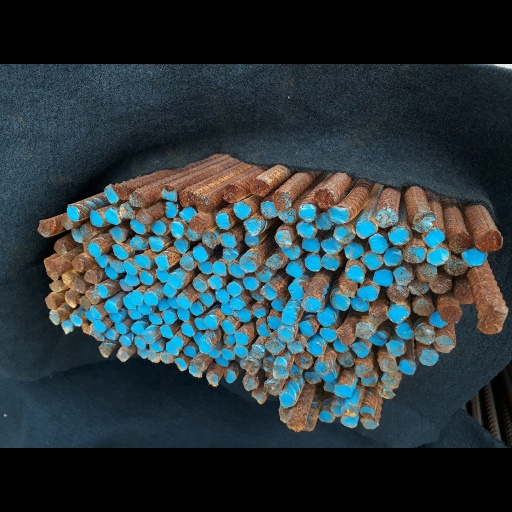dipstick: (480, 308, 506, 333), (478, 231, 502, 251), (449, 234, 472, 253), (389, 227, 412, 245), (413, 211, 433, 231), (454, 284, 474, 304), (355, 220, 377, 238), (445, 258, 468, 275), (424, 229, 444, 248), (427, 248, 448, 266), (388, 305, 409, 323), (376, 210, 398, 227), (403, 246, 425, 263), (440, 305, 460, 323), (329, 207, 350, 224), (462, 250, 485, 265), (315, 189, 334, 207), (346, 265, 364, 284), (435, 334, 454, 352), (335, 225, 355, 242), (388, 285, 408, 302), (321, 253, 339, 271), (370, 234, 387, 253), (395, 266, 412, 285), (415, 327, 434, 344), (412, 301, 434, 315), (38, 220, 56, 237), (299, 204, 316, 222), (331, 293, 349, 310), (369, 307, 387, 324), (250, 180, 269, 196), (418, 264, 437, 280), (373, 269, 392, 285), (339, 324, 354, 344), (379, 358, 399, 373), (233, 202, 250, 219), (274, 192, 291, 209), (385, 249, 402, 266), (340, 277, 357, 294), (275, 230, 291, 248), (227, 260, 243, 278), (345, 243, 363, 259), (305, 254, 321, 272), (431, 277, 449, 293), (386, 340, 404, 356), (322, 239, 341, 254), (363, 254, 382, 269), (296, 223, 316, 237), (409, 281, 429, 295), (254, 266, 271, 282), (355, 323, 372, 339), (224, 184, 239, 202), (302, 296, 320, 311), (295, 353, 313, 368), (281, 246, 300, 260), (419, 351, 438, 365), (109, 227, 125, 243), (161, 185, 177, 201), (241, 256, 257, 272), (289, 284, 305, 300), (244, 219, 261, 234), (316, 212, 331, 229), (396, 324, 413, 339), (301, 238, 319, 252), (377, 385, 395, 399), (336, 353, 354, 367), (399, 360, 417, 374), (265, 341, 284, 354), (382, 373, 401, 386), (44, 258, 60, 273), (104, 208, 119, 224), (180, 190, 195, 206), (262, 285, 278, 300), (286, 263, 302, 278), (358, 287, 378, 299), (298, 321, 314, 336), (317, 312, 333, 327), (430, 312, 446, 327), (89, 210, 103, 227), (266, 255, 283, 269), (279, 210, 296, 224), (334, 385, 352, 398), (130, 192, 145, 207), (261, 203, 276, 218), (60, 273, 76, 287), (112, 245, 128, 259), (216, 213, 230, 229), (190, 217, 204, 233), (202, 232, 216, 248), (220, 233, 236, 247), (193, 245, 207, 261), (212, 260, 226, 276), (204, 314, 218, 330), (242, 376, 258, 390), (353, 343, 369, 357), (105, 186, 118, 203), (196, 196, 209, 213), (179, 207, 196, 220), (222, 248, 239, 261), (265, 381, 282, 394), (351, 297, 368, 310), (306, 343, 323, 356), (313, 361, 330, 374), (369, 332, 386, 345), (137, 209, 152, 223), (130, 220, 145, 234), (149, 237, 164, 251), (164, 203, 178, 218), (135, 255, 150, 269), (179, 256, 194, 270), (192, 277, 206, 292), (243, 360, 258, 374), (252, 390, 267, 404), (267, 315, 281, 330), (282, 311, 297, 325), (66, 205, 79, 221), (80, 225, 93, 241), (170, 222, 183, 238), (167, 275, 183, 288), (273, 365, 289, 378), (320, 328, 336, 341), (287, 341, 303, 354), (130, 237, 147, 249), (233, 310, 250, 322), (360, 418, 378, 429), (87, 243, 101, 257), (152, 221, 166, 235), (155, 255, 169, 269), (174, 239, 188, 253), (228, 282, 242, 296), (221, 320, 235, 334), (188, 363, 202, 377), (278, 328, 292, 342), (206, 372, 219, 387), (251, 344, 264, 359), (288, 419, 303, 432), (64, 292, 76, 308), (356, 366, 372, 378), (333, 340, 349, 352), (341, 405, 358, 416), (304, 372, 321, 383), (95, 285, 109, 298), (103, 267, 117, 280), (120, 205, 134, 218), (122, 296, 136, 309), (163, 283, 176, 297), (199, 293, 213, 306), (209, 275, 222, 289), (243, 276, 257, 289), (257, 323, 271, 336), (252, 305, 266, 318), (271, 298, 285, 311), (61, 214, 73, 229), (71, 228, 83, 243), (263, 357, 275, 372), (341, 416, 357, 427), (85, 291, 98, 304), (124, 262, 137, 275), (144, 293, 157, 306), (139, 271, 152, 284), (177, 295, 190, 308), (160, 325, 173, 338), (174, 358, 187, 371), (190, 302, 203, 315), (216, 290, 229, 303), (231, 296, 244, 309), (235, 332, 248, 345), (53, 242, 67, 254), (198, 262, 212, 274), (131, 291, 143, 305), (162, 310, 174, 324), (181, 324, 195, 336), (224, 370, 236, 384), (234, 346, 248, 358), (280, 394, 294, 406), (45, 295, 56, 310), (103, 302, 118, 313), (244, 235, 259, 246), (72, 259, 85, 271), (84, 272, 97, 284), (95, 255, 108, 267), (110, 260, 123, 272), (131, 323, 144, 335), (165, 343, 178, 355), (194, 318, 207, 330), (289, 365, 302, 377), (61, 320, 72, 334), (319, 411, 333, 422), (360, 407, 374, 418), (321, 372, 335, 383), (125, 275, 140, 285), (278, 407, 288, 422), (70, 314, 82, 326), (78, 297, 90, 309), (119, 336, 131, 348), (156, 270, 168, 282), (134, 337, 146, 349), (177, 309, 189, 321), (199, 341, 211, 353), (73, 280, 84, 293), (148, 313, 161, 324), (142, 332, 155, 343), (221, 348, 234, 359), (185, 230, 199, 240), (137, 305, 151, 315), (127, 309, 141, 319), (215, 357, 229, 367), (361, 378, 376, 387), (50, 280, 62, 291), (90, 306, 101, 318), (99, 345, 110, 357), (117, 351, 129, 362), (147, 351, 159, 362), (171, 337, 183, 348), (221, 304, 233, 315), (223, 334, 235, 345), (251, 290, 263, 301), (49, 311, 59, 324), (119, 280, 132, 290), (160, 353, 173, 363), (183, 347, 196, 357), (89, 323, 98, 337), (149, 342, 163, 351), (115, 323, 126, 334), (158, 299, 169, 310), (109, 313, 121, 323), (331, 404, 341, 416), (93, 321, 104, 331), (105, 329, 116, 339), (168, 298, 179, 308), (193, 332, 202, 344), (46, 272, 59, 280), (324, 383, 334, 393), (304, 420, 313, 431), (209, 349, 219, 358), (85, 312, 94, 321), (137, 349, 147, 357), (82, 324, 89, 332)
